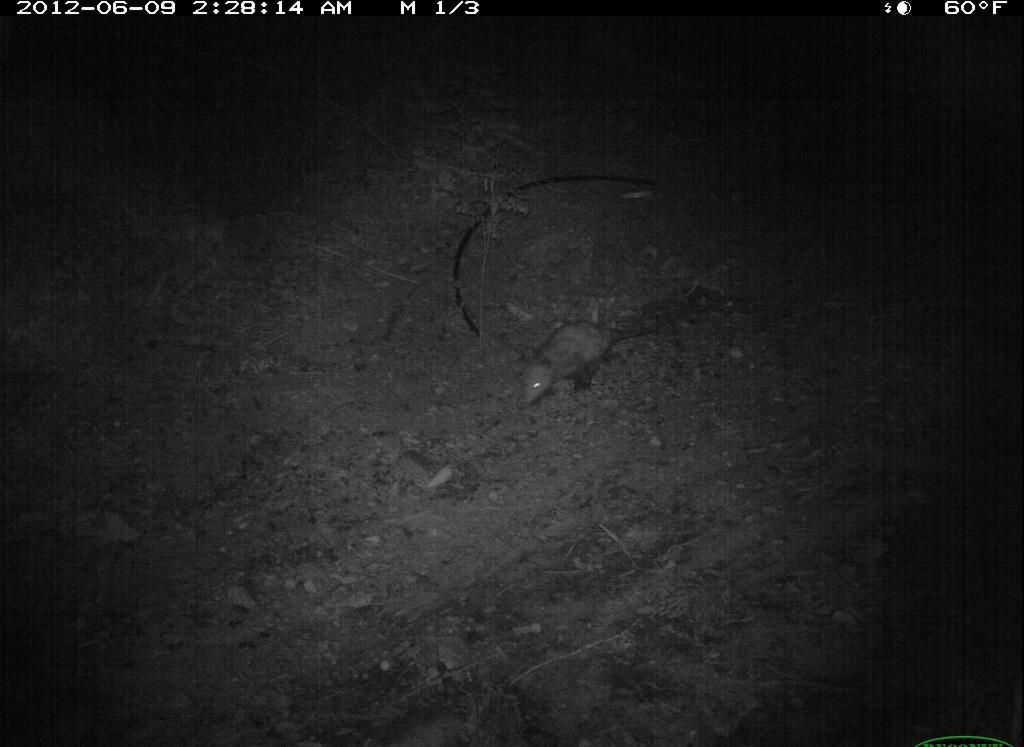opossum: (514, 303, 649, 413)
